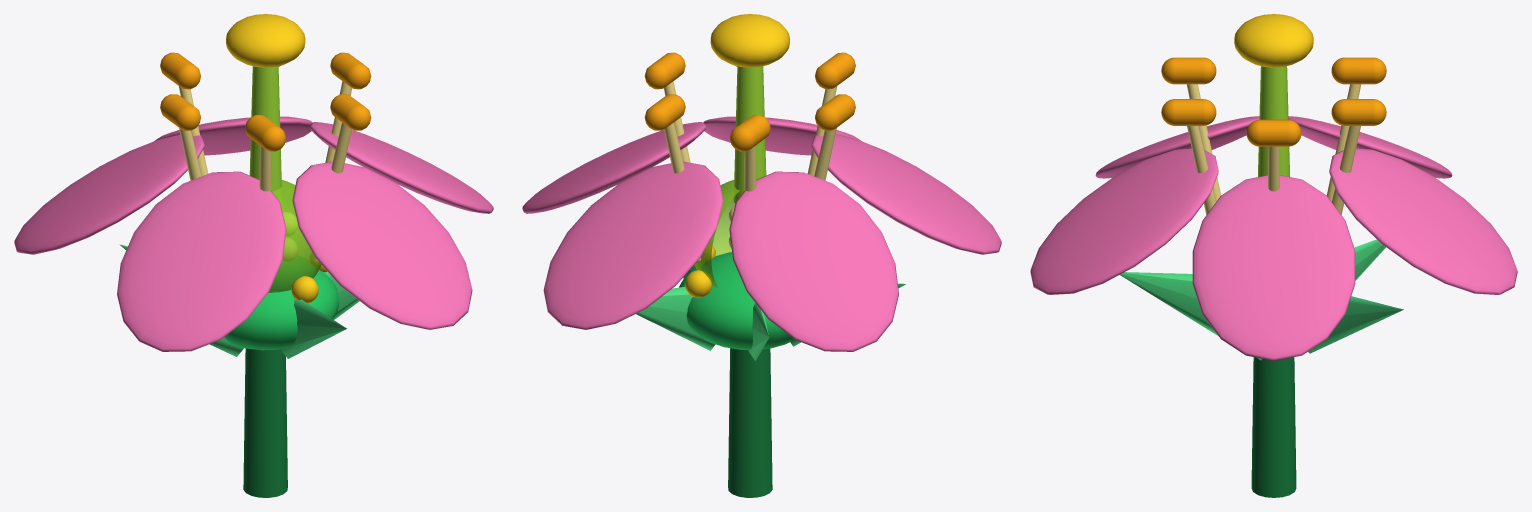
The model's file is flower.glb.
The picture shows the model from 3 angles, left to right: view 1: azimuth 30°, elevation 25°; view 2: azimuth 150°, elevation 25°; view 3: azimuth 270°, elevation 25°; orthographic projection.
Parts seen in each view (by area): view 1: part_petals, part_pedicel, part_anther, part_receptacle, part_stigma, part_filament, part_sepals, part_ovary, part_style, part_nectary, part_ovules; view 2: part_petals, part_pedicel, part_anther, part_receptacle, part_stigma, part_sepals, part_filament, part_style, part_ovary, part_nectary; view 3: part_petals, part_anther, part_pedicel, part_sepals, part_stigma, part_filament, part_style.
Part boxes in pixels (x1,y1,x2,y2): part_petals: [14, 116, 493, 351]; part_pedicel: [243, 348, 287, 497]; part_anther: [160, 52, 371, 151]; part_receptacle: [225, 255, 339, 350]; part_stigma: [226, 14, 305, 67]; part_filament: [178, 81, 351, 260]; part_sepals: [119, 244, 359, 358]; part_ovary: [268, 180, 321, 292]; part_style: [249, 66, 281, 202]; part_nectary: [291, 255, 327, 303]; part_ovules: [282, 212, 297, 262]; part_petals: [522, 116, 1001, 351]; part_pedicel: [728, 348, 772, 497]; part_anther: [644, 52, 855, 151]; part_receptacle: [679, 252, 794, 349]; part_stigma: [710, 14, 789, 67]; part_sepals: [636, 265, 905, 361]; part_filament: [664, 81, 837, 260]; part_style: [733, 66, 766, 203]; part_ovary: [694, 180, 739, 287]; part_nectary: [685, 242, 715, 297]; part_petals: [1030, 116, 1517, 360]; part_anther: [1161, 57, 1386, 146]; part_pedicel: [1251, 357, 1296, 497]; part_sepals: [1120, 239, 1403, 360]; part_stigma: [1234, 14, 1313, 67]; part_filament: [1186, 84, 1361, 214]; part_style: [1258, 66, 1289, 176].
Bounding box in the file's own units: 1.68 × 1.84 × 1.74.
